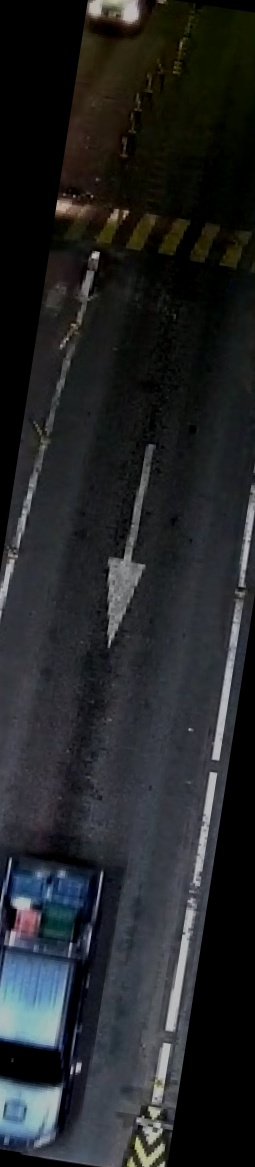car: (0, 831, 129, 1156)
